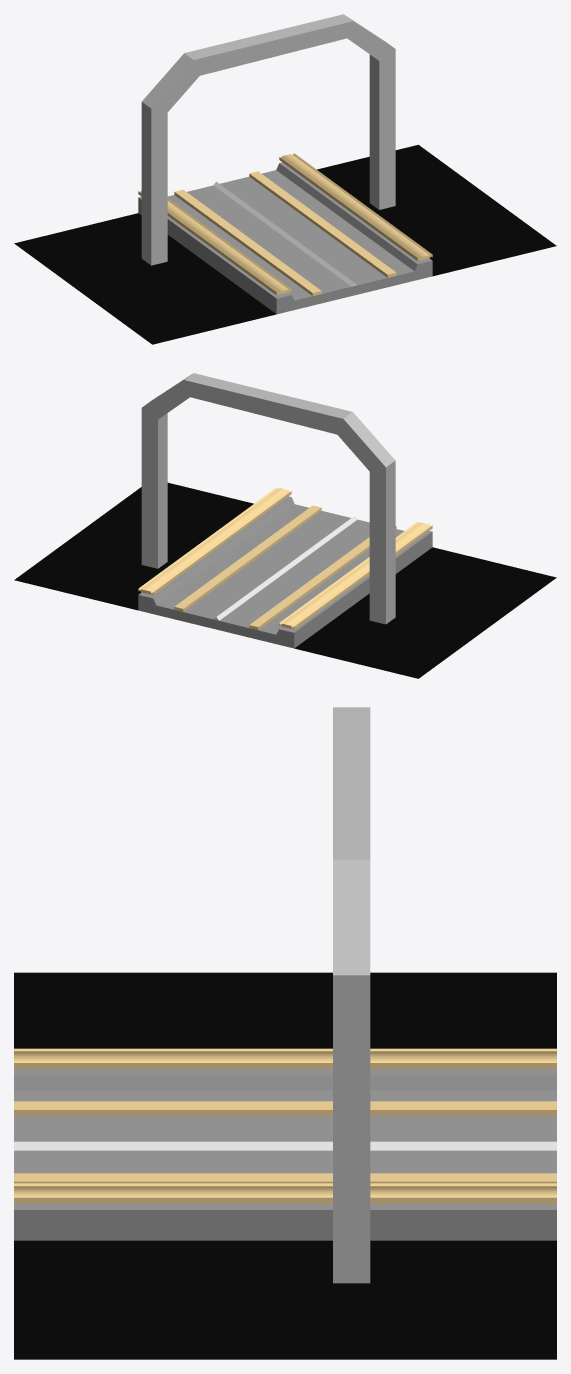
Rendered from station__message2.glb.
3 views of the same model, one above another, from view 1: azimuth 30°, elevation 25°; view 2: azimuth 150°, elevation 25°; view 3: azimuth 270°, elevation 25° (orthographic). The views are drawn at different scales.
Visible parts, largest first — view 1: _basefloor, road, Boolean, road__top--right, road__top--left, road__rail--left, road__rail--right, road__rail--middle; view 2: _basefloor, road, Boolean, road__top--right, road__top--left, road__rail--right, road__rail--left, road__rail--middle; view 3: _basefloor, road, Boolean, road__top--left, road__top--right, road__rail--left, road__rail--right, road__rail--middle.
Part boxes in pixels (x1=…): _basefloor: x1=14, y1=144, x2=556, y2=344; road: x1=138, y1=162, x2=432, y2=314; Boolean: x1=141, y1=14, x2=395, y2=265; road__top--right: x1=279, y1=153, x2=432, y2=260; road__top--left: x1=138, y1=190, x2=291, y2=295; road__rail--left: x1=174, y1=189, x2=321, y2=295; road__rail--right: x1=249, y1=171, x2=396, y2=277; road__rail--middle: x1=213, y1=181, x2=357, y2=286; _basefloor: x1=14, y1=482, x2=556, y2=678; road: x1=138, y1=496, x2=432, y2=648; Boolean: x1=141, y1=373, x2=395, y2=624; road__top--right: x1=138, y1=487, x2=291, y2=594; road__top--left: x1=279, y1=522, x2=432, y2=629; road__rail--right: x1=174, y1=505, x2=321, y2=611; road__rail--left: x1=249, y1=526, x2=396, y2=630; road__rail--middle: x1=213, y1=516, x2=357, y2=620; _basefloor: x1=14, y1=972, x2=556, y2=1359; road: x1=14, y1=1069, x2=556, y2=1240; Boolean: x1=333, y1=707, x2=370, y2=1283; road__top--left: x1=14, y1=1048, x2=556, y2=1068; road__top--right: x1=14, y1=1183, x2=556, y2=1203; road__rail--left: x1=14, y1=1101, x2=556, y2=1116; road__rail--right: x1=14, y1=1173, x2=556, y2=1183; road__rail--middle: x1=14, y1=1141, x2=556, y2=1150.
Bounding box in the file's own units: 10.8 × 4.98 × 6.4.
